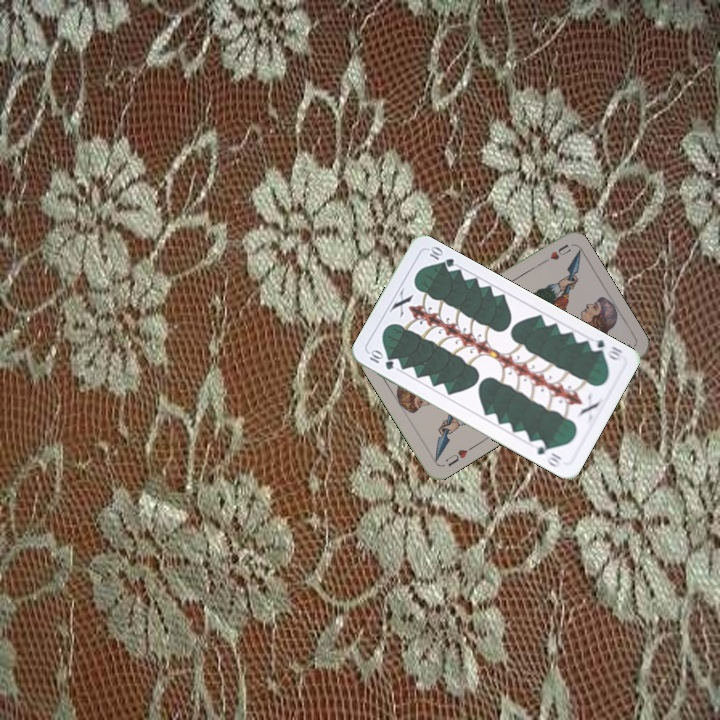G10: (585, 334, 625, 363), (365, 346, 396, 373)
HU: (536, 240, 573, 268), (441, 443, 475, 469)
